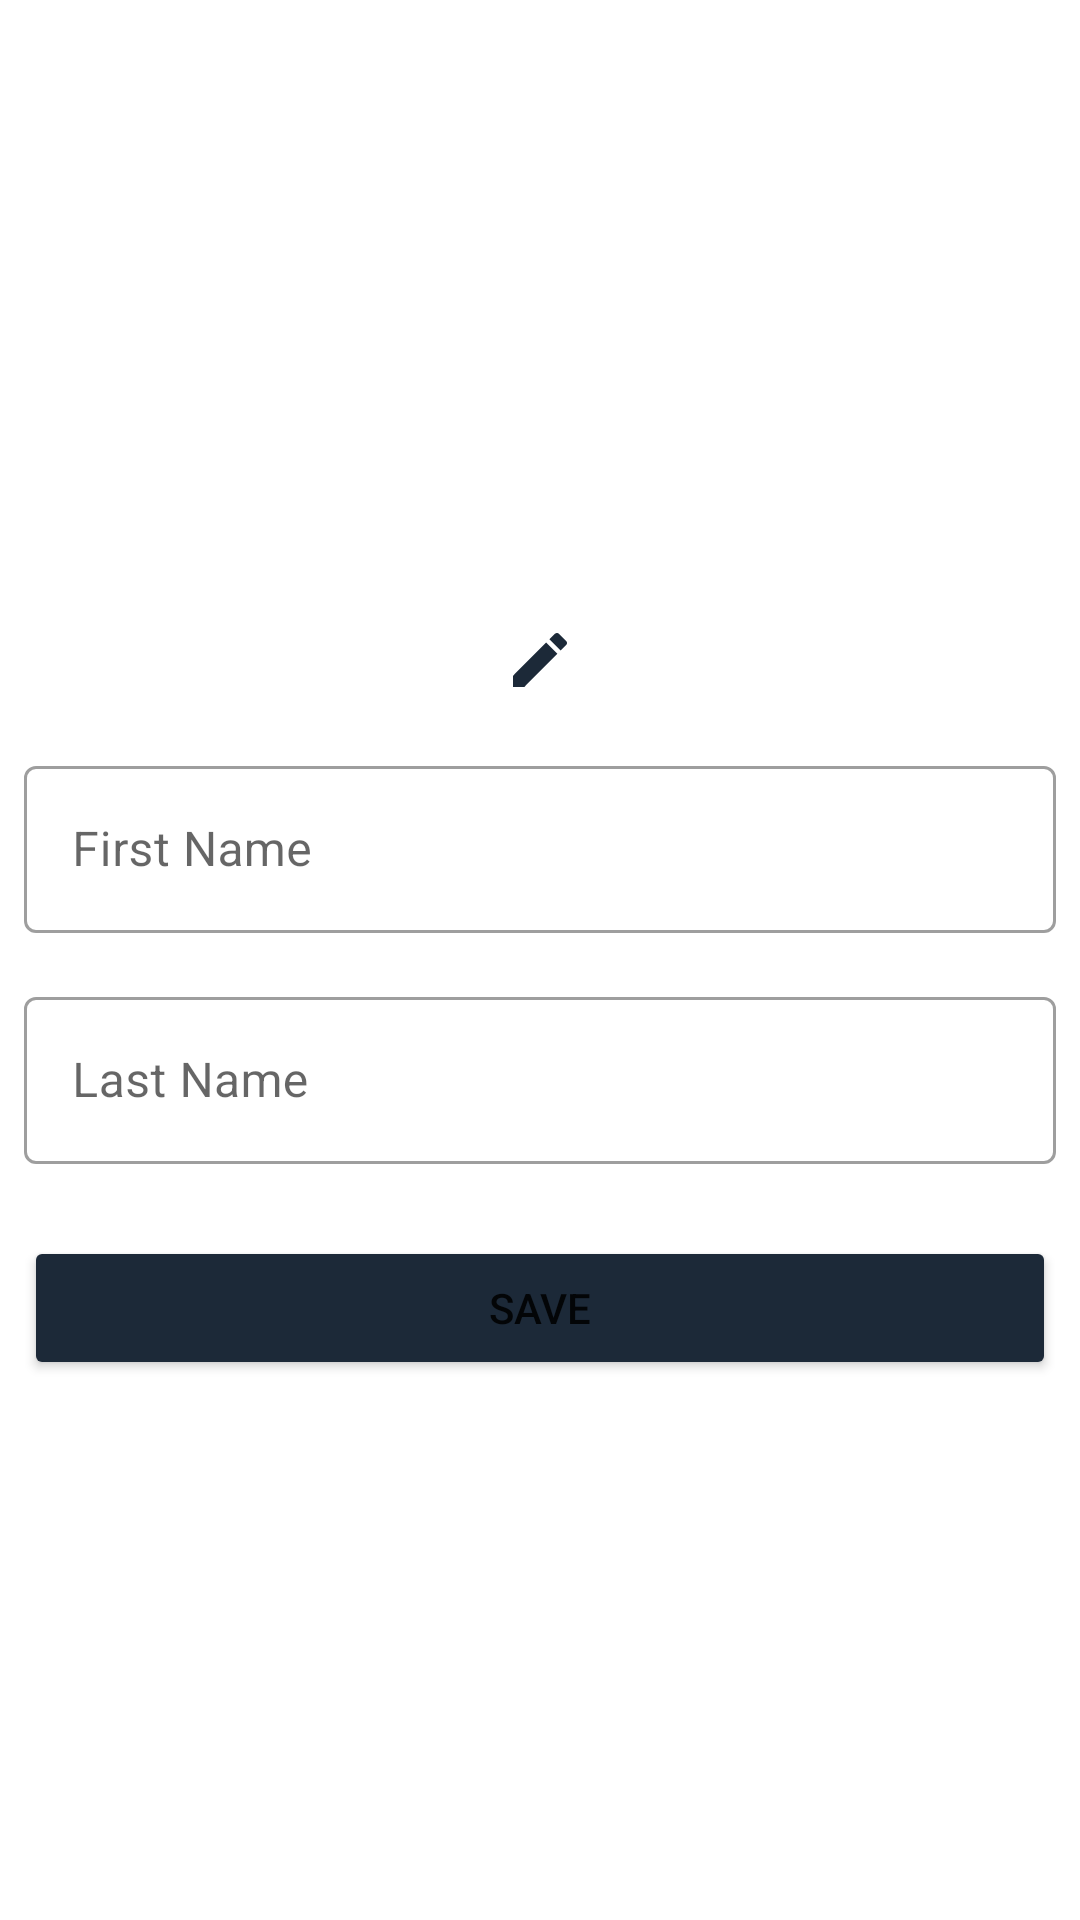

Icons on this 1080*1920 Android screen, each with the point to tap as (x,y):
edit: (540,660)
